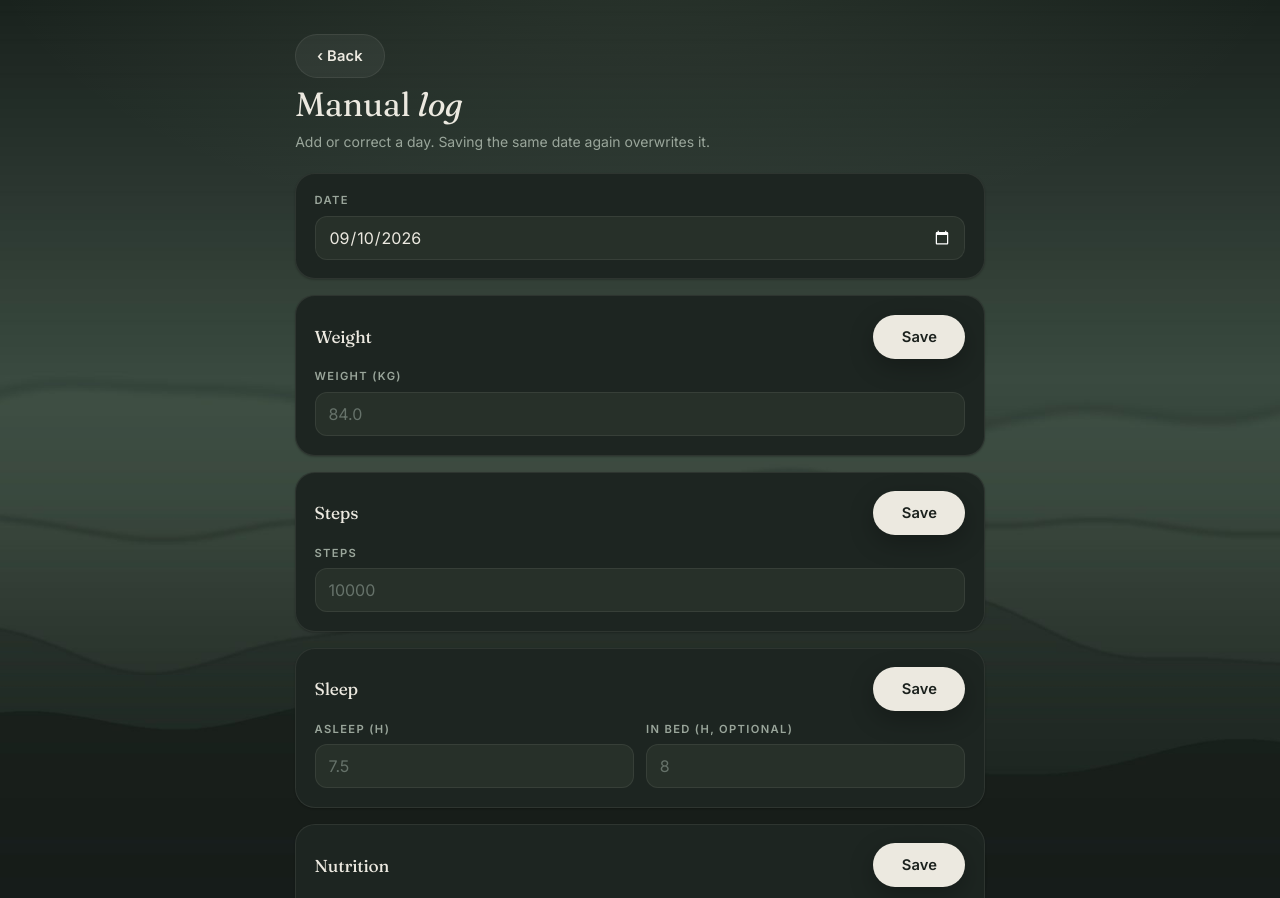
Test: Log — weight card › shows an error and posts nothing when the field is empty
Click the 1st button "Save" at (919, 337), box [873,315,965,359]
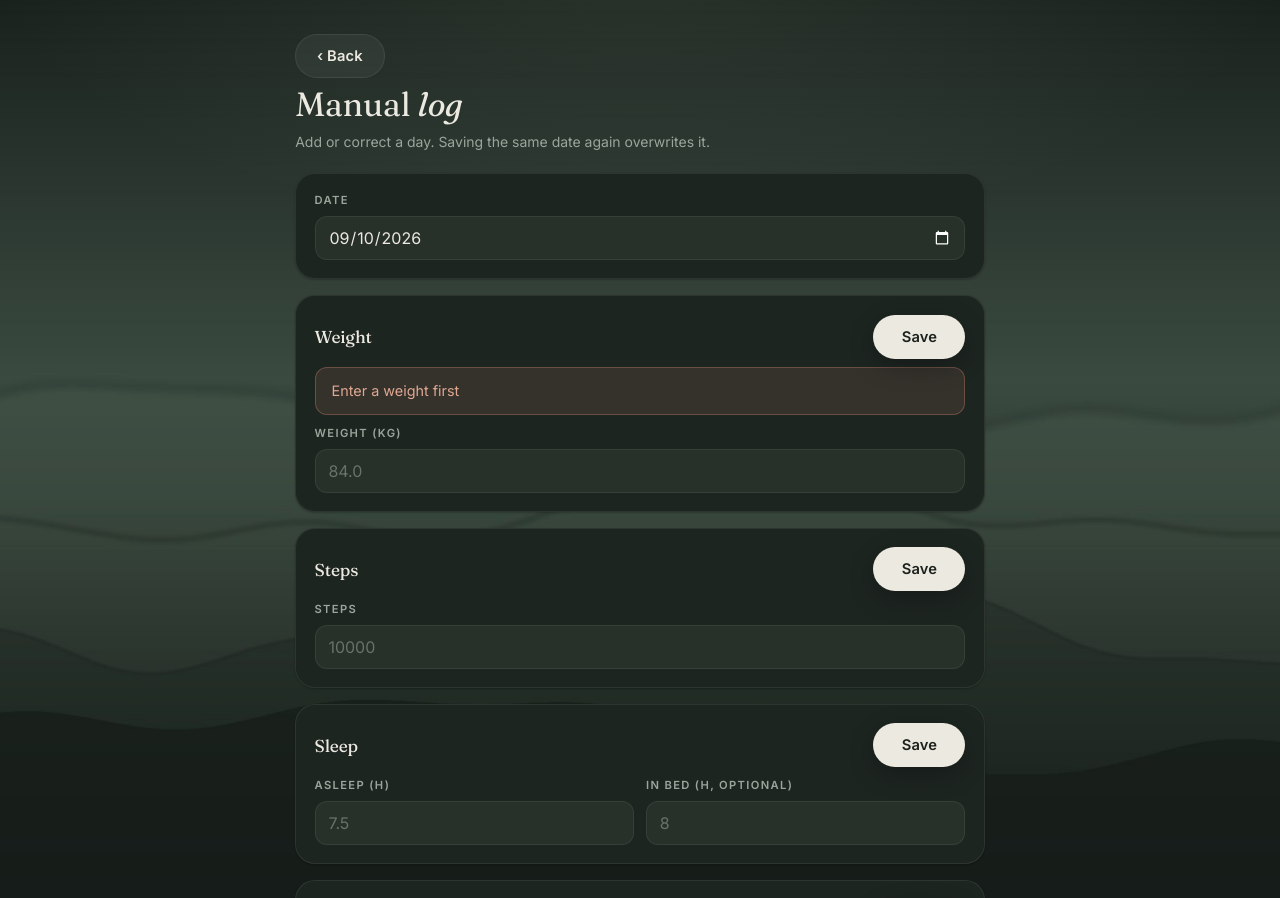
Now the text "Enter a weight first" is shown, box [315,367,965,415]
